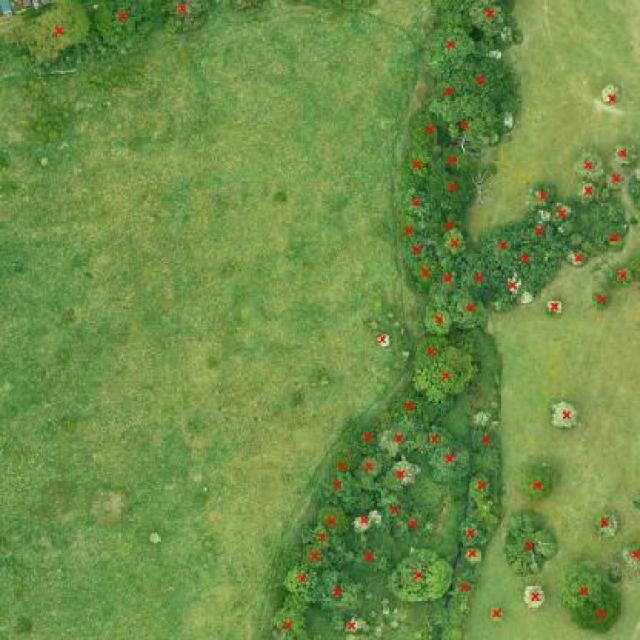tree: (1, 0, 96, 71), (453, 46, 527, 119), (496, 508, 567, 584), (383, 547, 460, 607), (426, 94, 509, 149), (85, 0, 163, 57), (419, 14, 485, 81), (408, 344, 482, 402), (565, 586, 631, 639), (556, 555, 609, 612), (156, 0, 224, 42), (431, 166, 485, 217), (314, 569, 372, 615), (315, 476, 382, 515), (428, 440, 482, 488), (465, 0, 517, 45), (516, 461, 565, 508), (403, 418, 460, 458), (415, 293, 460, 342), (400, 106, 455, 146), (389, 386, 440, 428), (450, 290, 495, 336), (267, 598, 315, 640), (377, 452, 425, 493), (431, 142, 482, 180), (543, 392, 589, 434), (388, 179, 440, 216), (457, 253, 501, 296), (395, 141, 435, 187), (512, 219, 566, 253), (567, 146, 608, 188), (349, 538, 395, 574), (313, 502, 356, 540), (466, 423, 509, 460), (588, 503, 625, 546), (278, 559, 320, 596), (412, 332, 450, 372), (600, 133, 640, 170), (478, 227, 519, 262), (437, 222, 471, 264), (375, 419, 410, 459), (407, 253, 439, 296), (463, 465, 494, 509), (402, 230, 436, 270), (423, 210, 469, 239), (452, 514, 491, 548), (351, 418, 383, 459), (351, 500, 392, 532), (384, 490, 413, 535), (355, 450, 390, 487), (320, 0, 389, 18), (591, 78, 627, 111), (433, 69, 467, 103), (434, 258, 461, 300), (393, 208, 421, 247), (350, 506, 385, 537), (222, 0, 276, 20), (301, 525, 339, 553), (525, 182, 558, 209), (524, 583, 551, 615), (457, 546, 494, 568), (586, 290, 617, 316), (328, 452, 363, 475), (599, 166, 626, 195), (549, 195, 576, 224), (601, 225, 628, 254), (623, 166, 640, 212), (503, 271, 528, 302), (341, 610, 368, 638), (486, 596, 508, 629), (621, 535, 640, 573), (406, 514, 434, 538), (541, 295, 568, 319), (560, 250, 589, 272), (369, 328, 397, 350), (612, 262, 632, 288), (606, 563, 625, 588)
